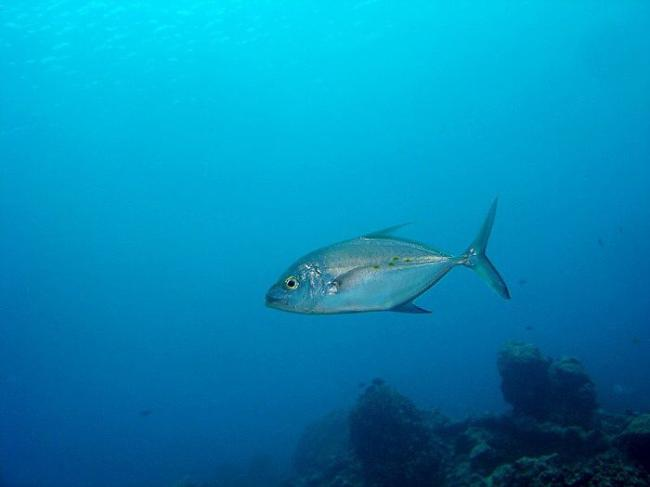fish: (265, 197, 514, 314)
